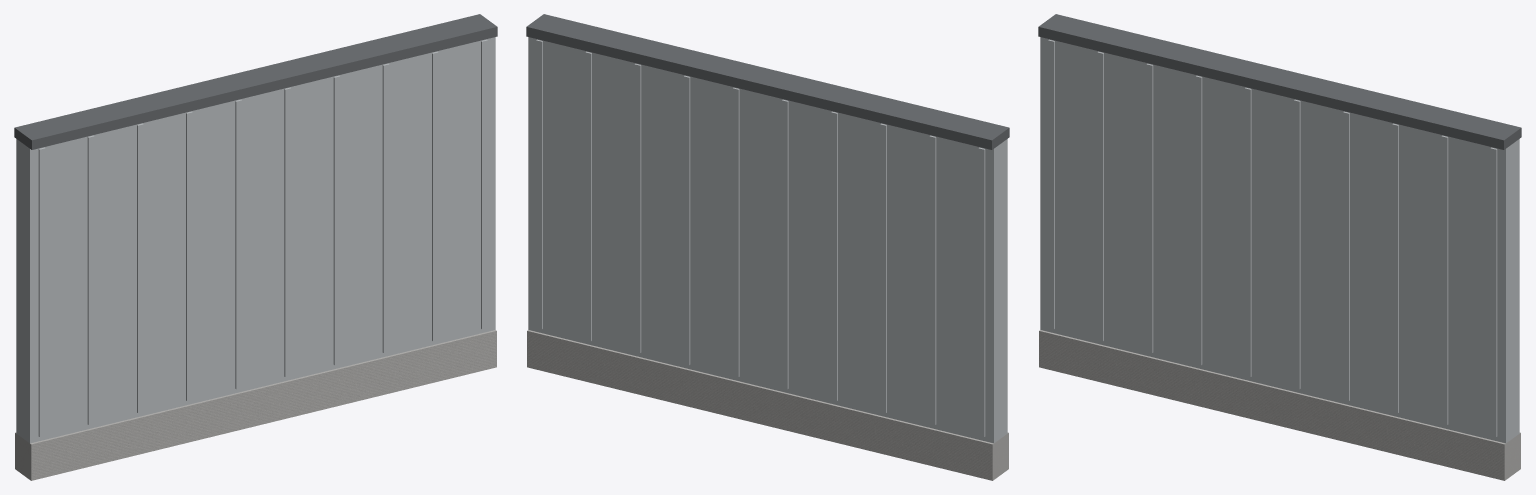
The model's file is car-repair-garage-and-mot-workshop-car-repair-garage-a-d0f858c1__33994.glb.
3 renders of one model, left to right at view 1: azimuth 30°, elevation 25°; view 2: azimuth 150°, elevation 25°; view 3: azimuth 330°, elevation 25°, orthographic.
Visible parts, largest first — view 1: car-repair-garage-and-mot-workshop-workshop-wall-panel; view 2: car-repair-garage-and-mot-workshop-workshop-wall-panel; view 3: car-repair-garage-and-mot-workshop-workshop-wall-panel.
Boxes of the visible parts, bbox=[...] form: car-repair-garage-and-mot-workshop-workshop-wall-panel: bbox=[14, 14, 497, 480]; car-repair-garage-and-mot-workshop-workshop-wall-panel: bbox=[526, 14, 1009, 480]; car-repair-garage-and-mot-workshop-workshop-wall-panel: bbox=[1038, 14, 1521, 480].
Size of the model in its own units: 4 by 2.8 by 0.2598.
Materials: 3 (1 with a texture image).
